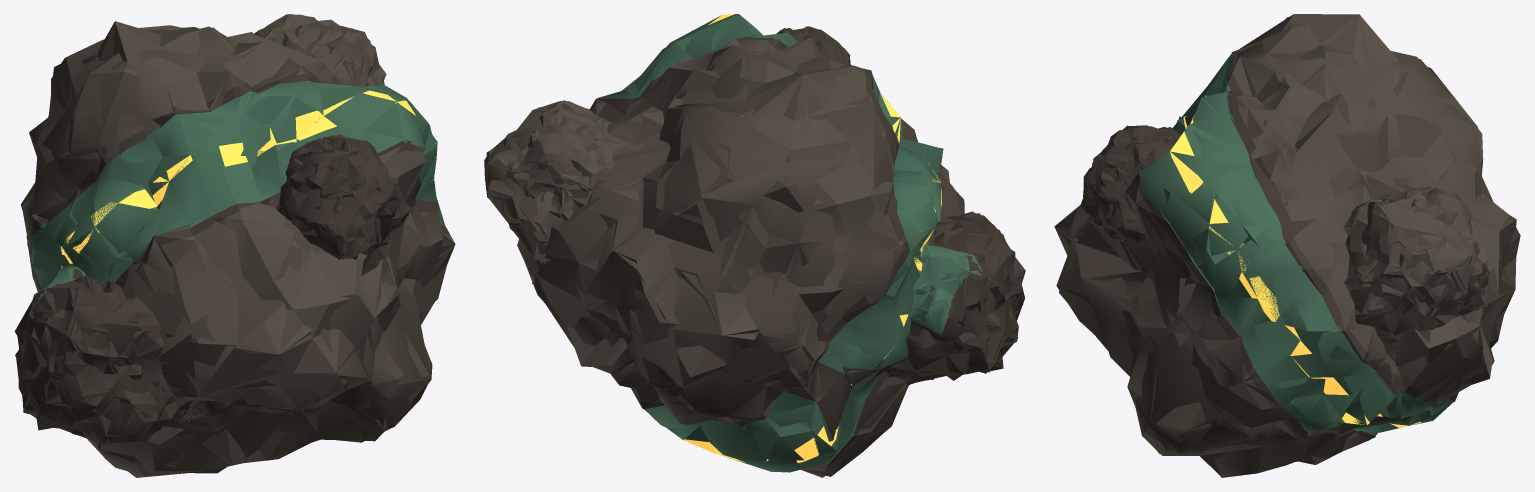
The model's file is place_asteroid_seamed.glb.
The picture shows the model from 3 angles, left to right: view 1: azimuth 30°, elevation 25°; view 2: azimuth 150°, elevation 25°; view 3: azimuth 270°, elevation 25°; orthographic projection. The views are drawn at different scales.
Visible parts, largest first — view 1: LOD2_Stone, LOD0_Stone, LOD1_Stone, LOD0_Stone_deep, LOD2_Stone_vein, LOD2_Stone_deep, LOD1_Stone_deep, LOD1_Stone_vein, LOD0_Stone_vein, LOD0_Lights_Warm, LOD1_Stone_strata, LOD2_Stone_strata (+1 smaller); view 2: LOD2_Stone, LOD0_Stone, LOD1_Stone, LOD2_Stone_vein, LOD1_Stone_vein, LOD0_Stone_deep, LOD2_Stone_deep, LOD0_Stone_vein, LOD2_Stone_strata, LOD1_Stone_deep, LOD1_Stone_strata, LOD0_Lights_Warm (+1 smaller); view 3: LOD2_Stone, LOD0_Stone, LOD1_Stone, LOD2_Stone_vein, LOD1_Stone_vein, LOD0_Stone_deep, LOD0_Stone_vein, LOD2_Stone_deep, LOD1_Stone_deep, LOD0_Lights_Warm, LOD2_Stone_strata, LOD0_Stone_strata (+1 smaller).
Part boxes in pixels (left/top/right/bottom): LOD2_Stone: left=22, top=14, right=454, bottom=477; LOD0_Stone: left=25, top=14, right=454, bottom=475; LOD1_Stone: left=20, top=14, right=455, bottom=475; LOD0_Stone_deep: left=15, top=74, right=450, bottom=444; LOD2_Stone_vein: left=29, top=82, right=445, bottom=318; LOD2_Stone_deep: left=16, top=66, right=444, bottom=445; LOD1_Stone_deep: left=15, top=68, right=423, bottom=445; LOD1_Stone_vein: left=30, top=80, right=442, bottom=309; LOD0_Stone_vein: left=31, top=80, right=443, bottom=299; LOD0_Lights_Warm: left=61, top=90, right=437, bottom=268; LOD1_Stone_strata: left=174, top=385, right=409, bottom=425; LOD2_Stone_strata: left=180, top=379, right=430, bottom=426; LOD2_Stone: left=486, top=37, right=964, bottom=477; LOD0_Stone: left=484, top=38, right=964, bottom=476; LOD1_Stone: left=484, top=37, right=950, bottom=475; LOD2_Stone_vein: left=599, top=15, right=989, bottom=471; LOD1_Stone_vein: left=532, top=15, right=983, bottom=472; LOD0_Stone_deep: left=590, top=26, right=1025, bottom=463; LOD2_Stone_deep: left=598, top=28, right=1024, bottom=430; LOD0_Stone_vein: left=532, top=14, right=969, bottom=472; LOD2_Stone_strata: left=610, top=360, right=881, bottom=439; LOD1_Stone_deep: left=597, top=26, right=1025, bottom=462; LOD1_Stone_strata: left=605, top=335, right=908, bottom=409; LOD0_Lights_Warm: left=683, top=14, right=941, bottom=462; LOD2_Stone: left=1054, top=14, right=1516, bottom=477; LOD0_Stone: left=1054, top=14, right=1520, bottom=476; LOD1_Stone: left=1071, top=41, right=1520, bottom=477; LOD2_Stone_vein: left=1138, top=57, right=1453, bottom=435; LOD1_Stone_vein: left=1164, top=53, right=1451, bottom=436; LOD0_Stone_deep: left=1081, top=49, right=1458, bottom=439; LOD0_Stone_vein: left=1139, top=55, right=1432, bottom=434; LOD2_Stone_deep: left=1083, top=57, right=1397, bottom=456; LOD1_Stone_deep: left=1081, top=89, right=1374, bottom=439; LOD0_Lights_Warm: left=1170, top=95, right=1421, bottom=427; LOD2_Stone_strata: left=1135, top=341, right=1497, bottom=452; LOD0_Stone_strata: left=1132, top=337, right=1498, bottom=447.
Size of what is drawn, in the model's own units: 20.3 by 19.25 by 19.2.
